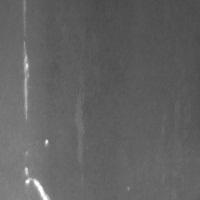scratches: (20, 40, 33, 122), (23, 165, 52, 200)
